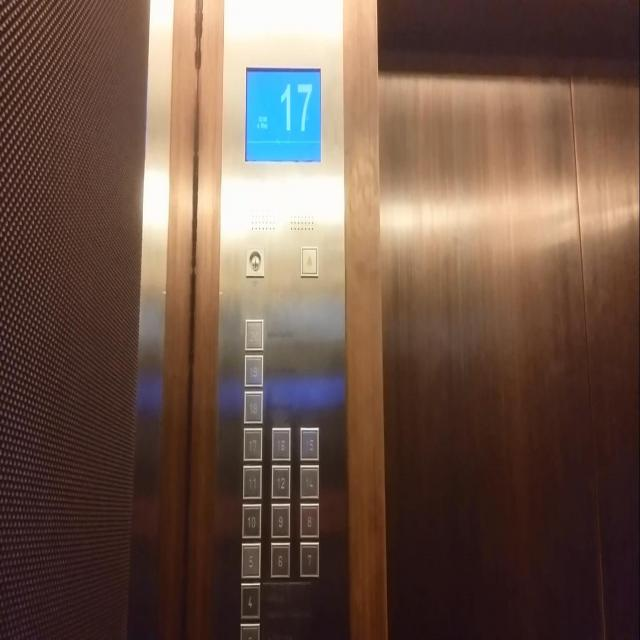10: (242, 503, 260, 538)
11: (242, 465, 262, 498)
12: (271, 464, 290, 498)
14: (300, 464, 319, 498)
15: (300, 426, 318, 460)
16: (272, 427, 290, 460)
17: (243, 427, 262, 460)
18: (244, 391, 262, 422)
19: (244, 354, 263, 386)
4: (240, 582, 260, 618)
5: (241, 542, 260, 576)
6: (270, 542, 290, 576)
7: (300, 542, 318, 576)
8: (300, 502, 318, 536)
9: (271, 503, 289, 537)
alarm: (300, 246, 318, 276)
blur: (244, 318, 263, 351)
keyhole: (246, 246, 264, 276)
led: (244, 66, 320, 162)
